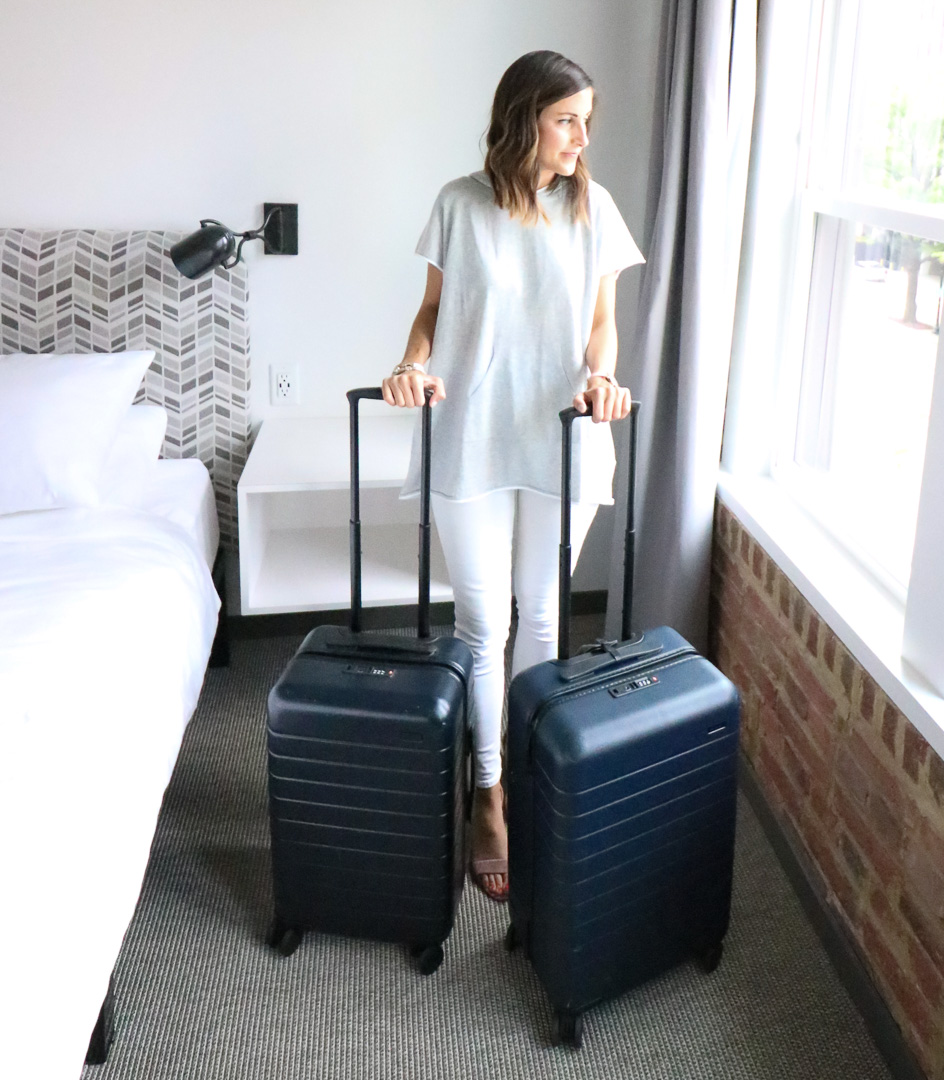luggage: (505, 658, 743, 977), (262, 608, 462, 953)
